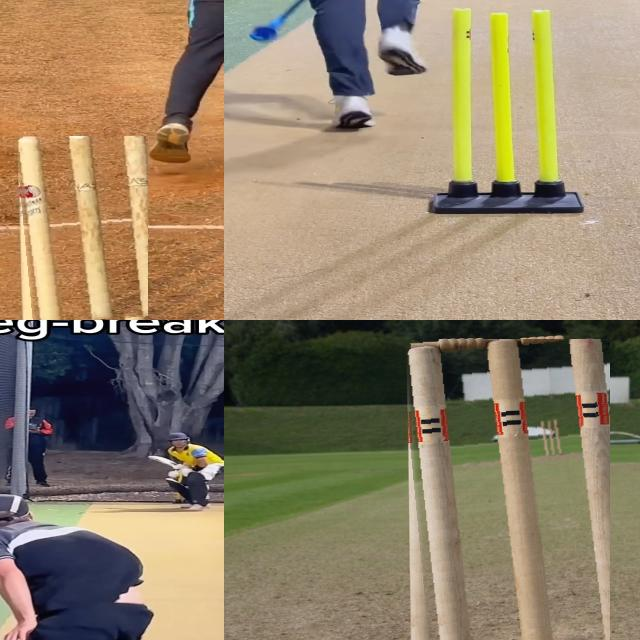Cricket ball: (167, 470, 180, 479)
Stumps: (400, 339, 610, 640), (427, 6, 584, 214), (14, 136, 148, 320), (527, 428, 552, 468)
